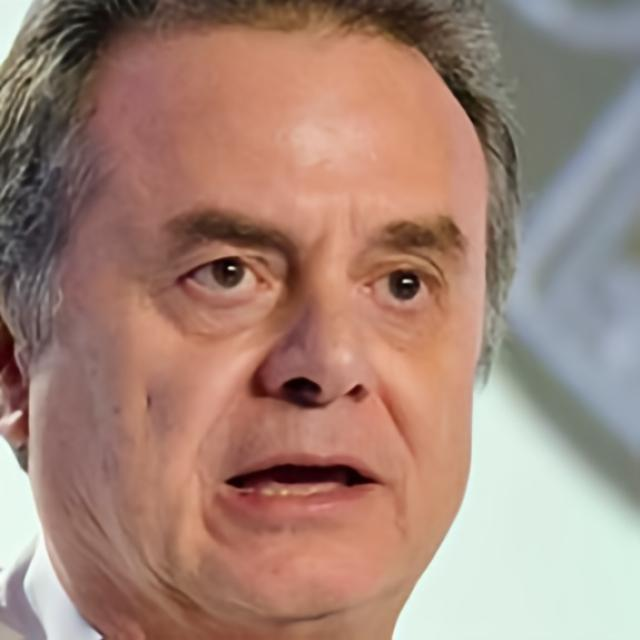disgust: (26, 16, 492, 626)
